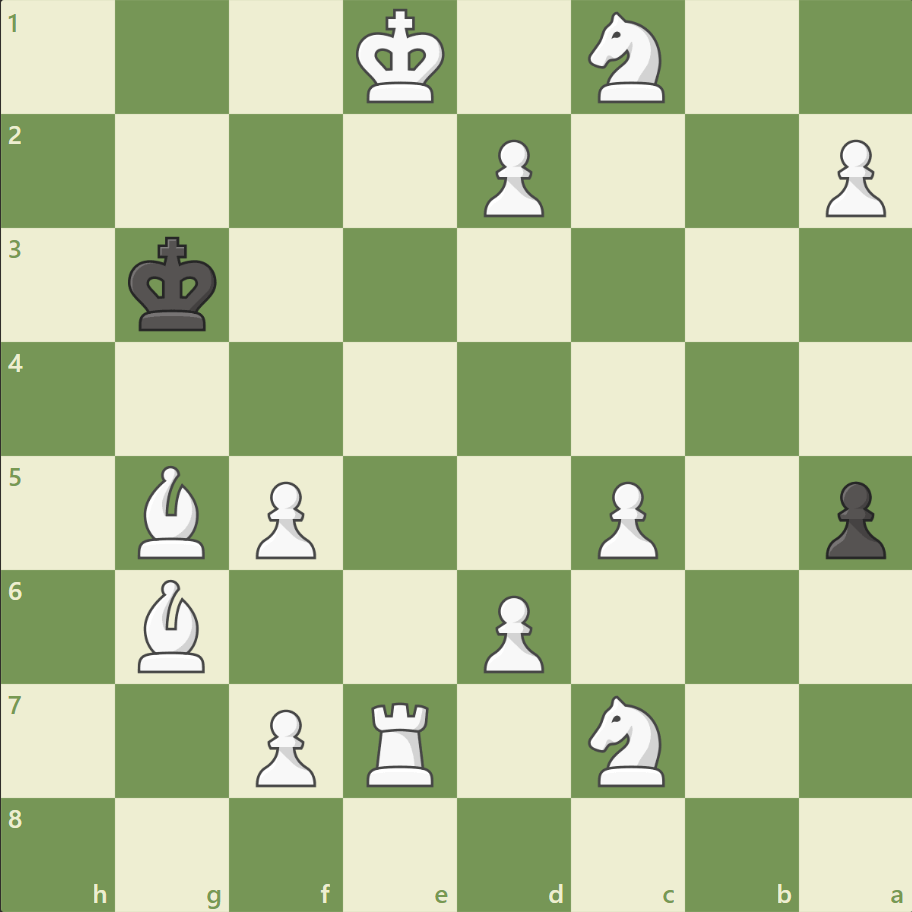B: (131, 460, 215, 563), (131, 574, 215, 676)
K: (351, 4, 451, 112)
N: (579, 688, 676, 791), (579, 7, 676, 110)
P: (247, 700, 322, 791), (474, 586, 549, 677), (247, 473, 322, 564), (474, 132, 549, 223), (588, 473, 662, 564), (815, 132, 889, 223)
R: (360, 693, 442, 790)
k: (124, 231, 224, 339)
p: (815, 473, 889, 564)
